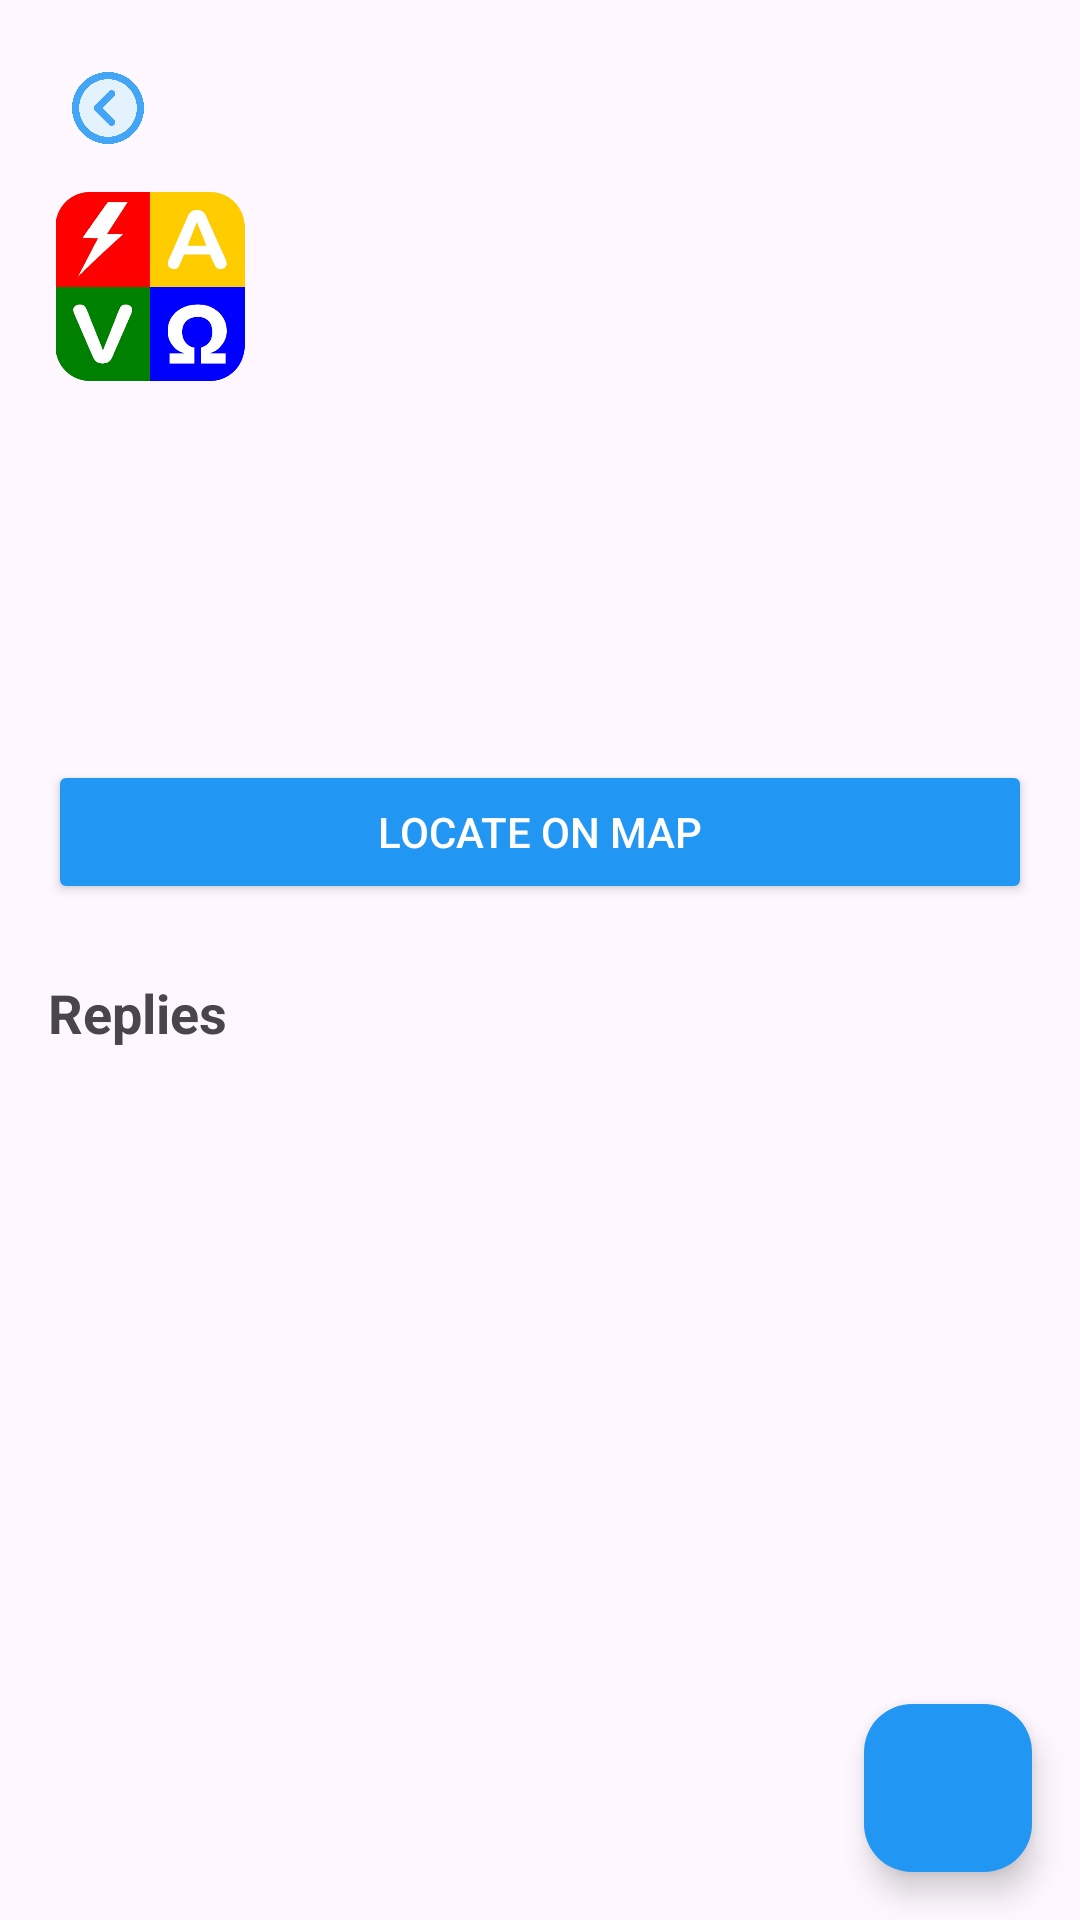

Where to tap for icons on this 1080 x 1920 app screen, as [x,y]:
back arrow: [108,108]
